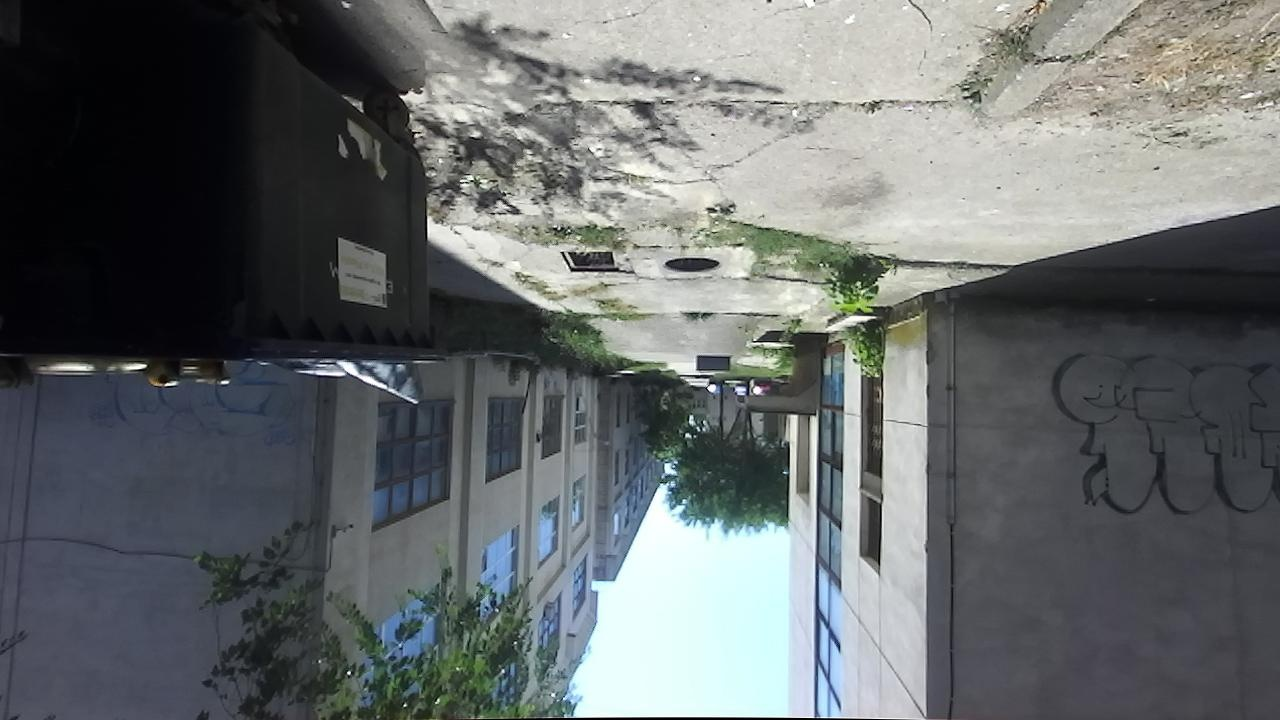drain: (554, 244, 625, 279), (656, 253, 725, 278)
